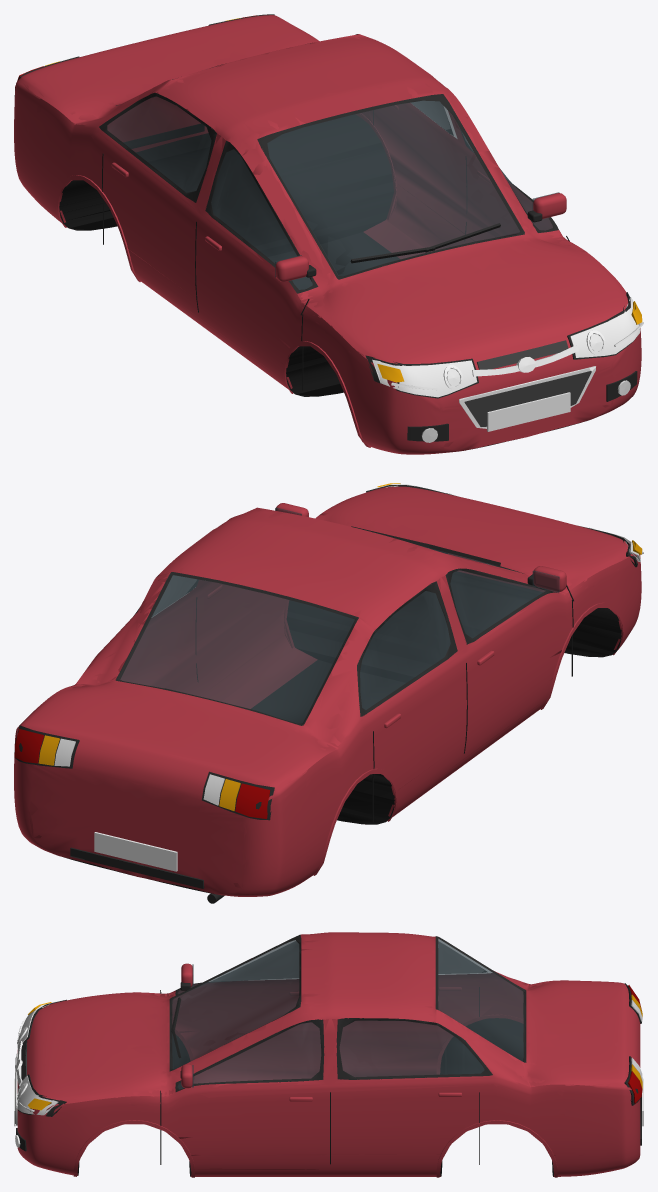
Rendered from granta.glb.
3 renders of one model, top to bottom at view 1: azimuth 30°, elevation 25°; view 2: azimuth 150°, elevation 25°; view 3: azimuth 270°, elevation 25°, orthographic. The views are drawn at different scales.
Parts seen in each view (by area): view 1: LOD_hi, LOD0; view 2: LOD_hi, LOD0; view 3: LOD_hi, LOD0.
Part boxes in pixels (<box>): LOD_hi: <box>14,14,643,454</box>; LOD0: <box>15,14,643,448</box>; LOD_hi: <box>14,483,643,896</box>; LOD0: <box>15,483,642,903</box>; LOD_hi: <box>14,932,643,1177</box>; LOD0: <box>15,932,642,1176</box>.
Size of what is drawn, in the model's own units: 1.82 by 1.3 by 4.31.
